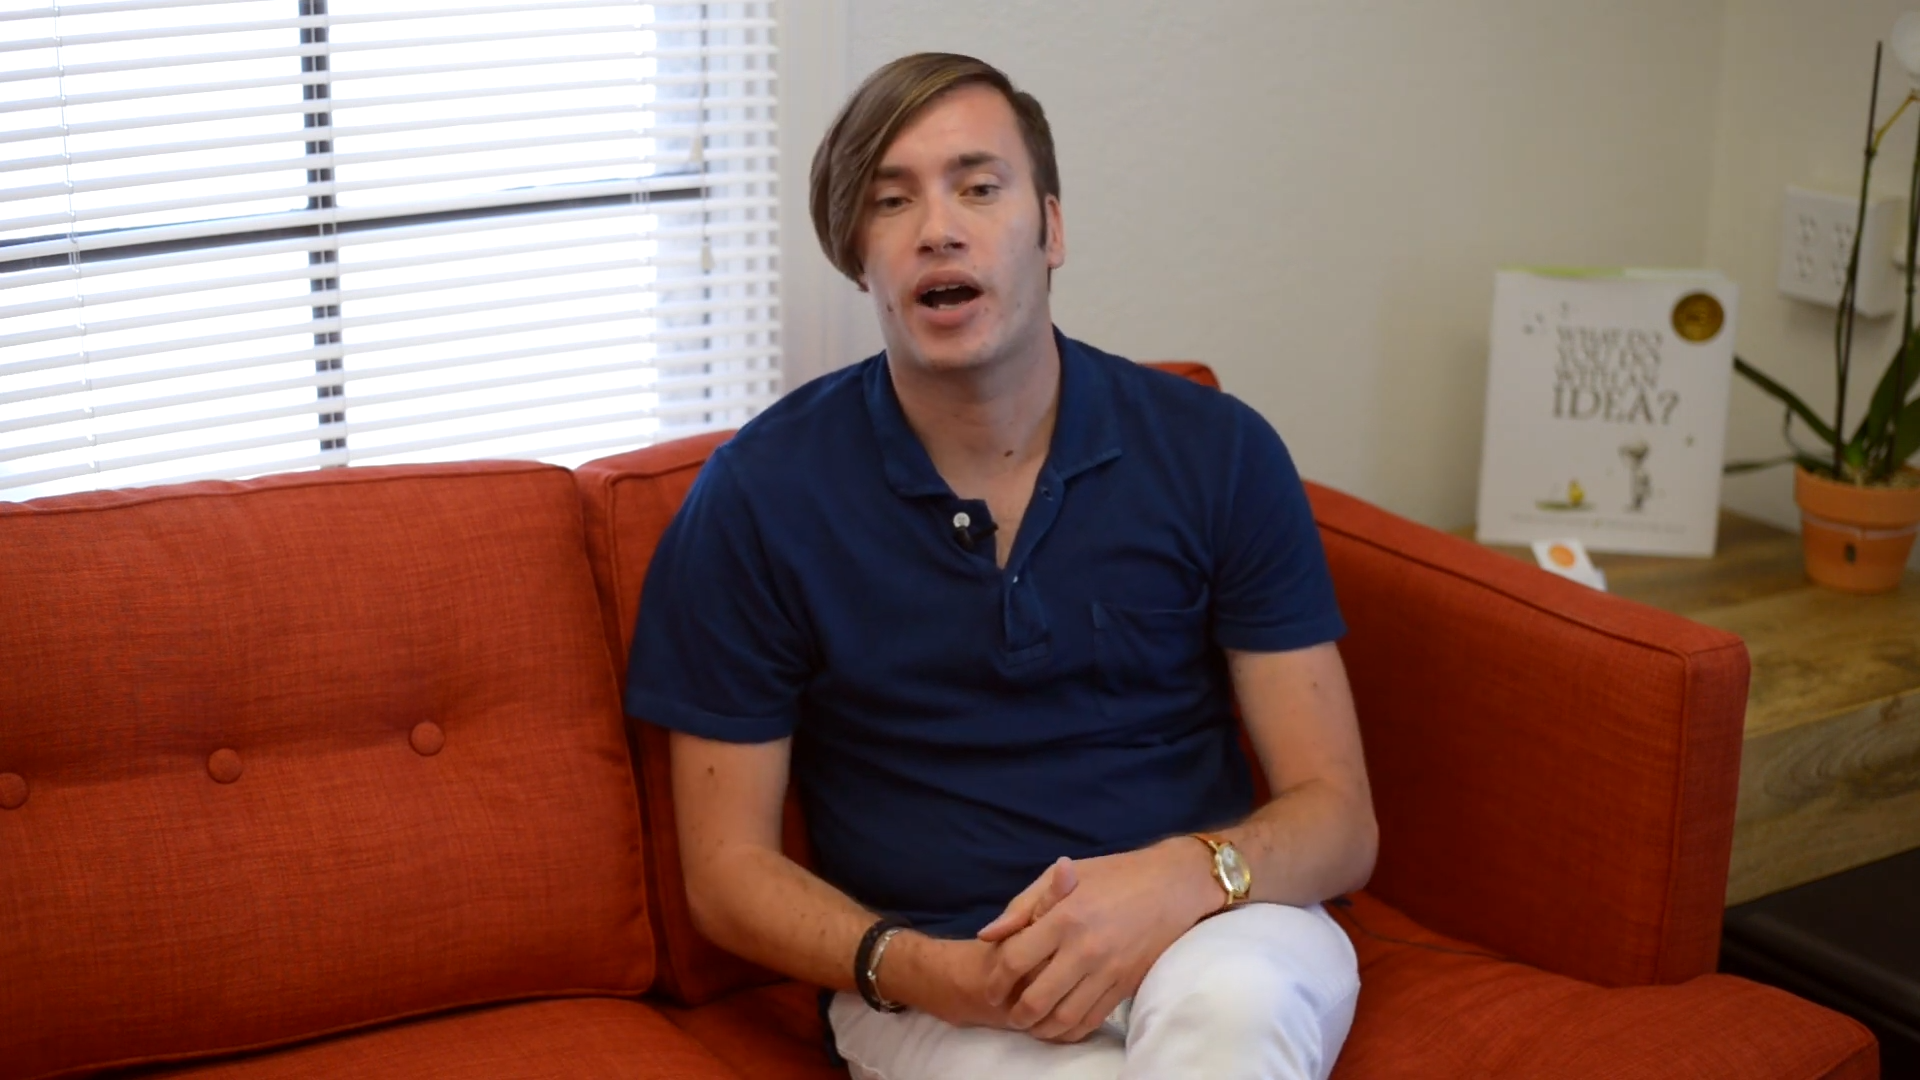Therapist: (603, 22, 1458, 1080)
